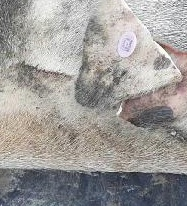text: (110, 22, 151, 67)
